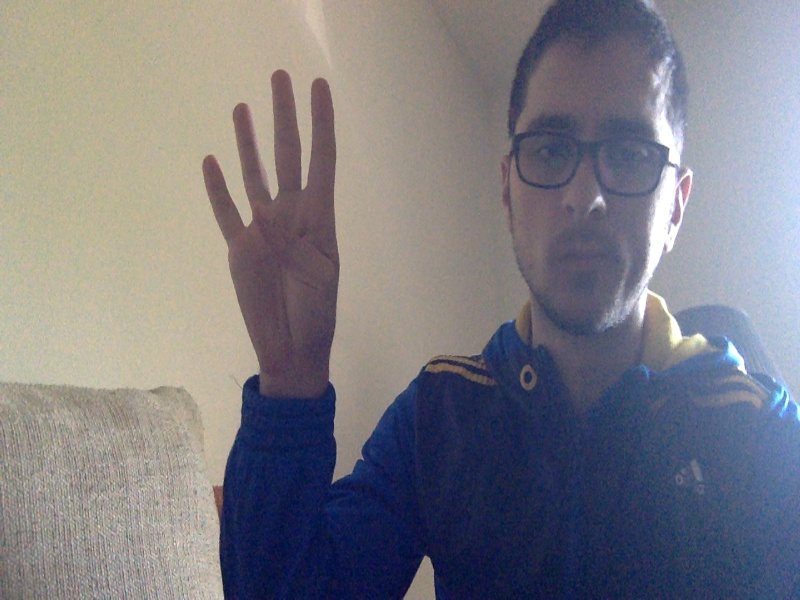4-hand: (202, 68, 342, 377)
